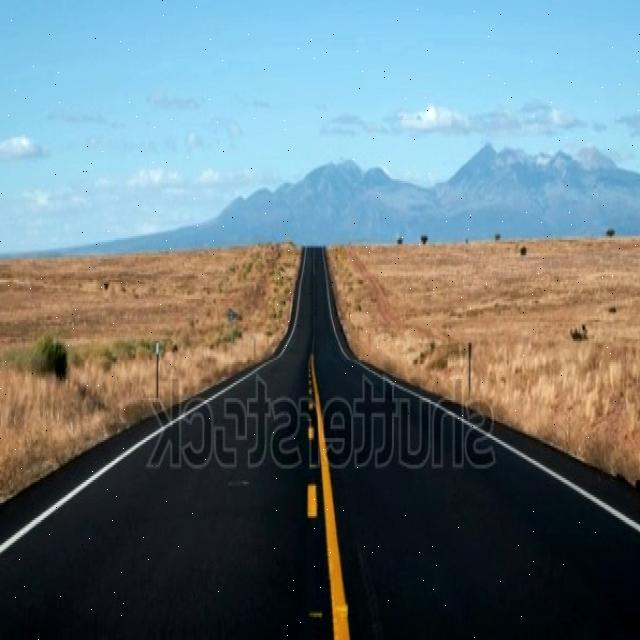lane: (311, 354, 350, 638)
road: (1, 248, 640, 636)
